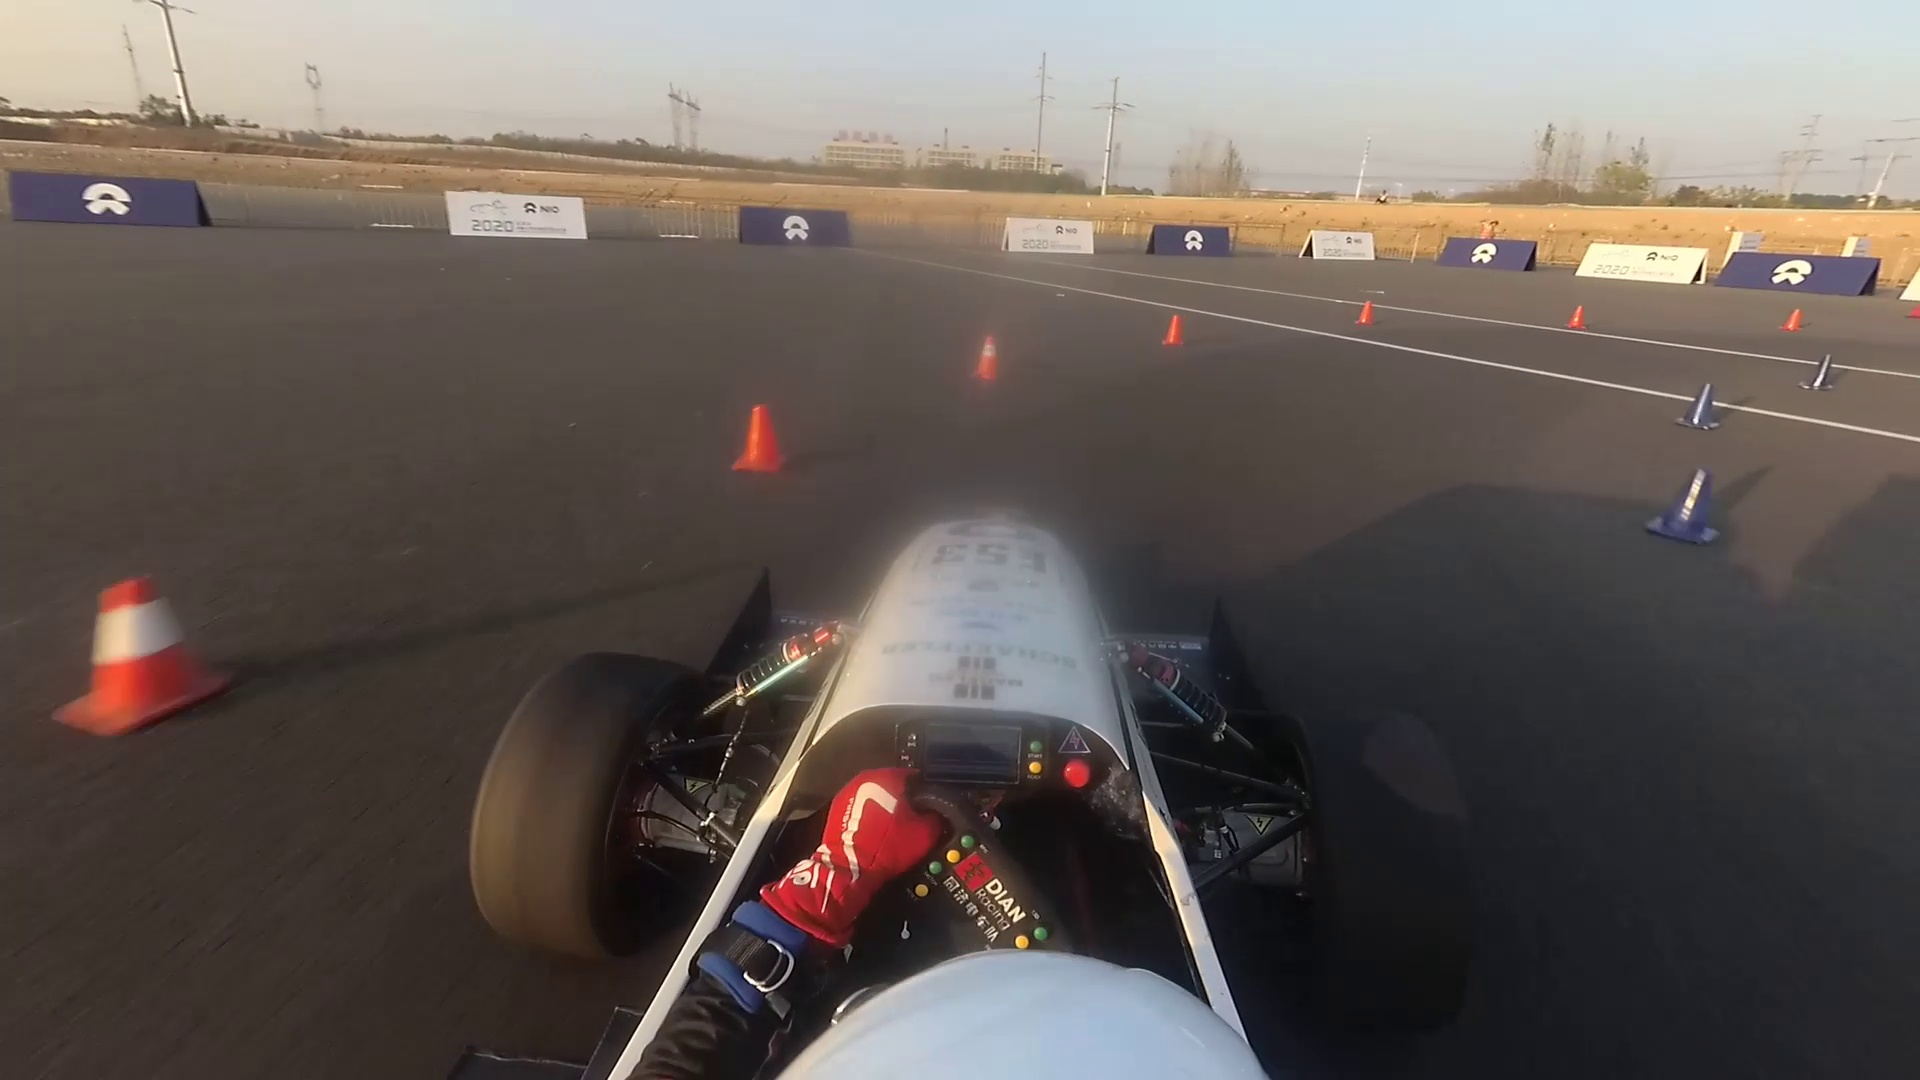blue_cone: (1656, 468, 1727, 549), (1681, 378, 1725, 433), (1797, 349, 1840, 392)
red_cone: (44, 574, 237, 745), (719, 392, 782, 484), (959, 324, 1006, 377), (1153, 315, 1200, 347), (1346, 295, 1387, 330), (1778, 301, 1812, 342), (1563, 305, 1592, 338)
